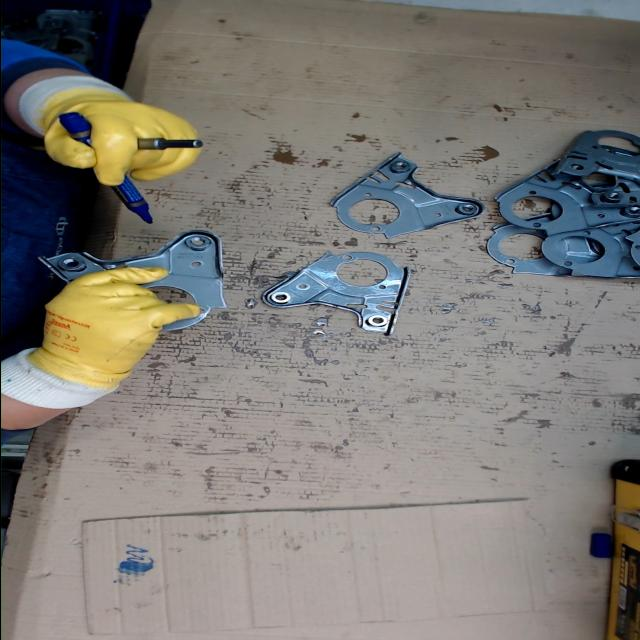hands: (23, 264, 205, 376), (37, 86, 201, 188)
